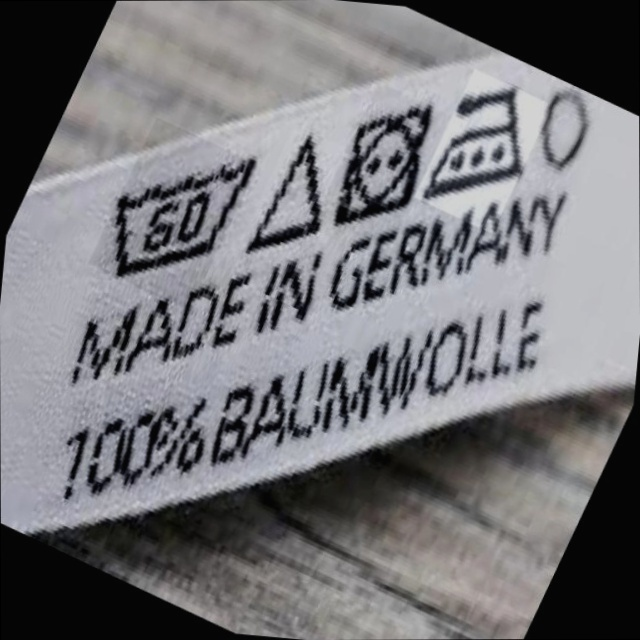60C: (94, 138, 260, 284)
bleach: (251, 126, 334, 260)
iron_high: (426, 74, 536, 209)
tumble_dry_medium: (335, 92, 434, 229)
